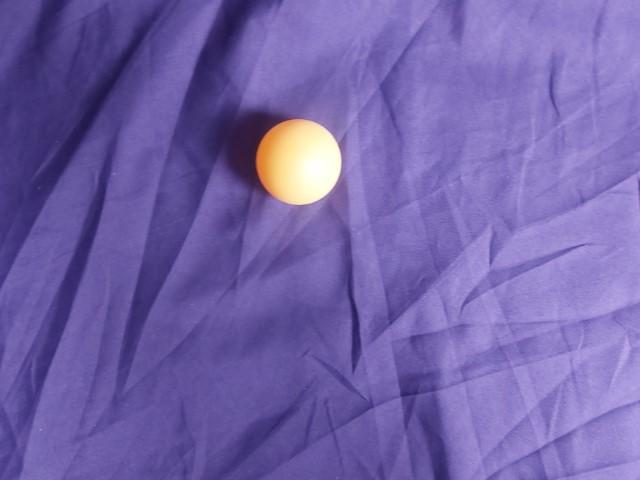oball: (289, 269, 392, 369)
